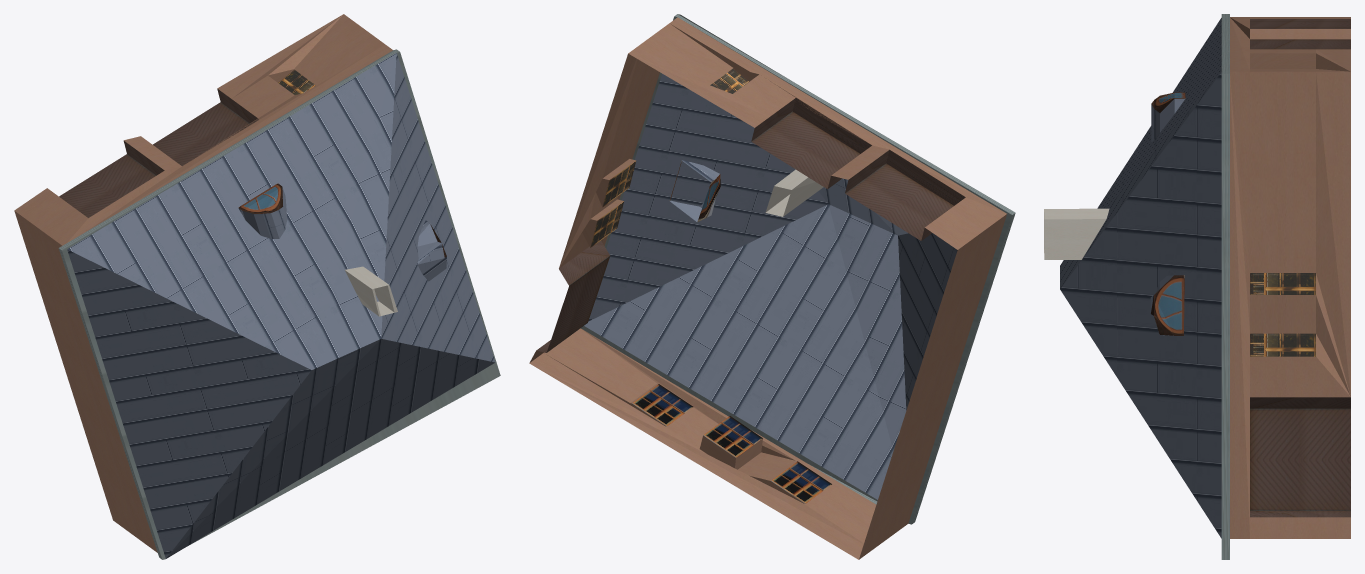
The model's file is Wismari7_3-origo.obj.
The picture shows the model from 3 angles, left to right: view 1: azimuth 30°, elevation 25°; view 2: azimuth 150°, elevation 25°; view 3: azimuth 270°, elevation 25°; orthographic projection. The views are drawn at different scales.
Parts seen in each view (by area): view 1: W7_BuildingB; view 2: W7_BuildingB; view 3: W7_BuildingB.
Boxes of the visible parts, box(x1,y1,x2,y2) form: W7_BuildingB: box(14, 14, 500, 559); W7_BuildingB: box(529, 14, 1015, 559); W7_BuildingB: box(1044, 14, 1350, 559).
Size of the model in its own units: 15.81 by 15.5 by 7.83.
